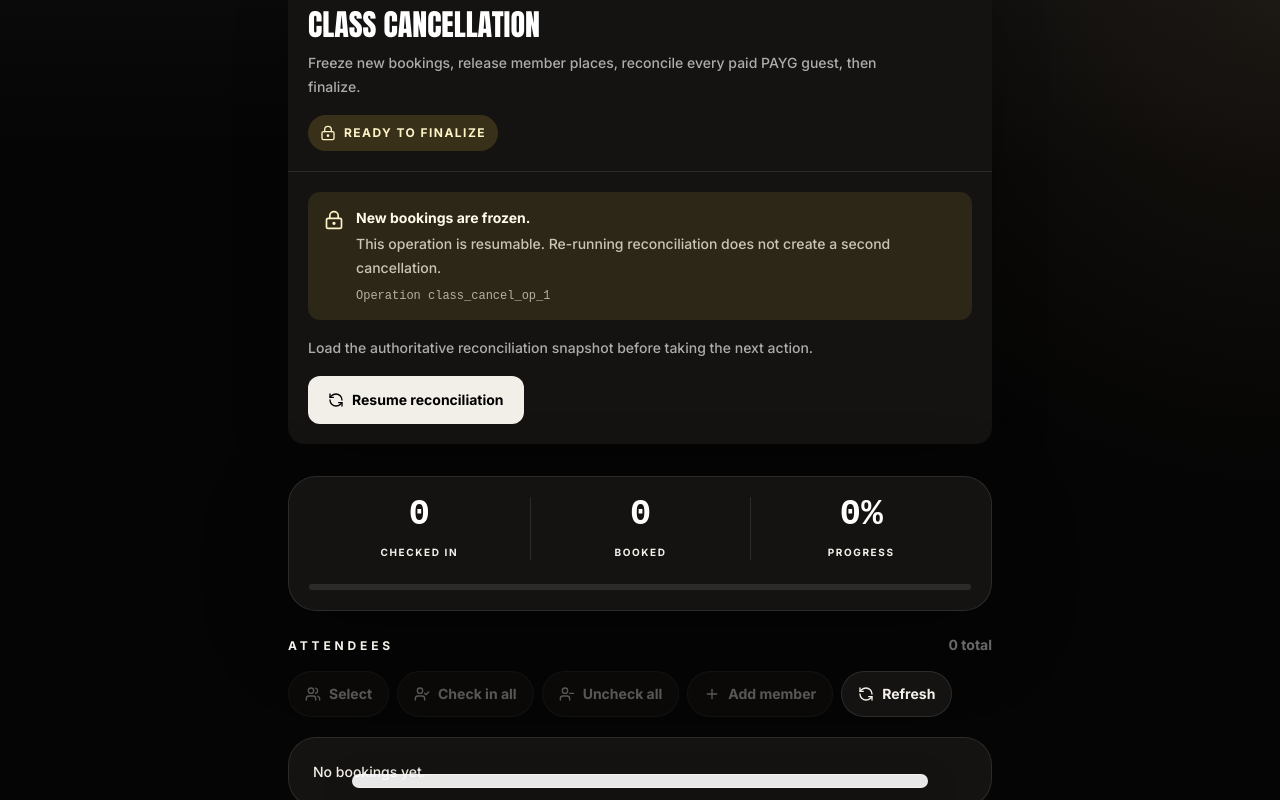
Test case: whole-class cancellation admin workflow › presents finalize refusal blockers and preserves the reconciliation snapshot
This screenshot has width=1280, height=800.
(page scrolled)
Click the button "Resume reconciliation" at (416, 400), box [308, 376, 524, 424]
(page scrolled)
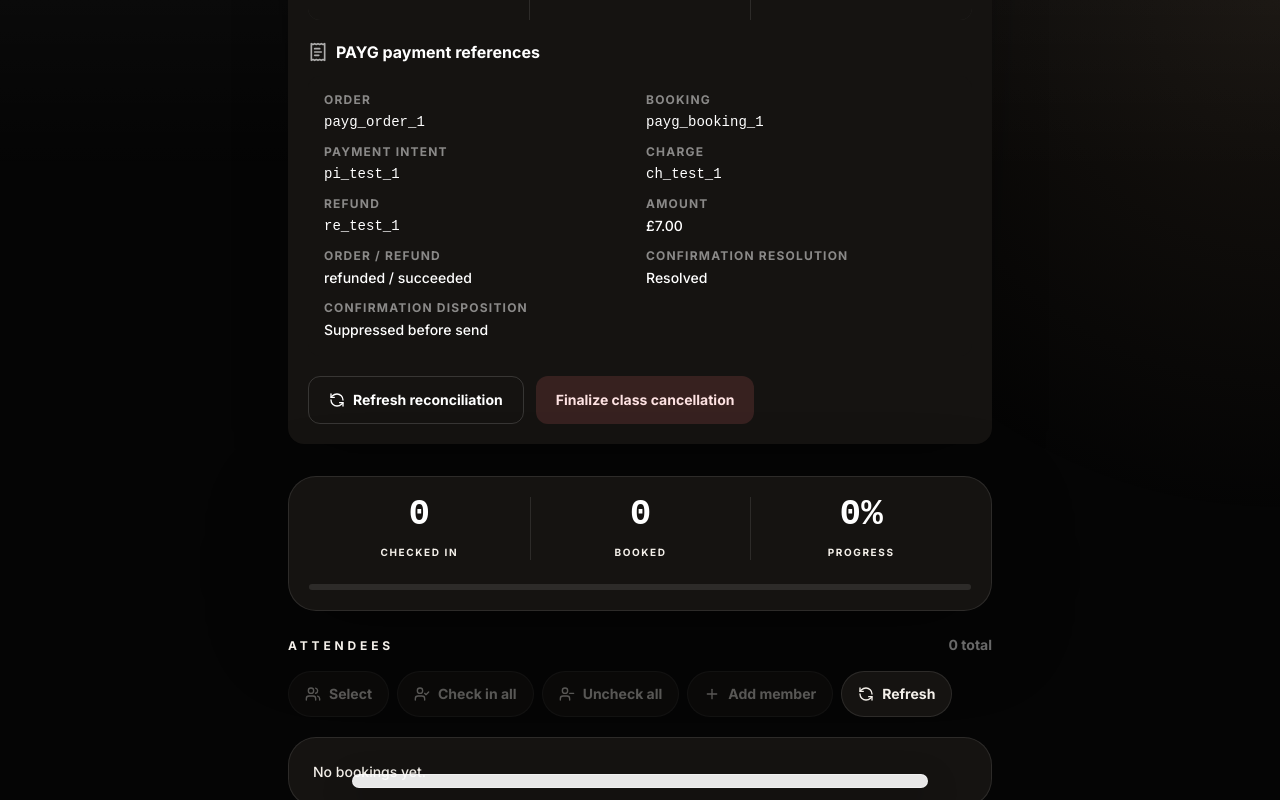
Click the button "Finalize class cancellation" at (645, 400), box [536, 376, 754, 424]
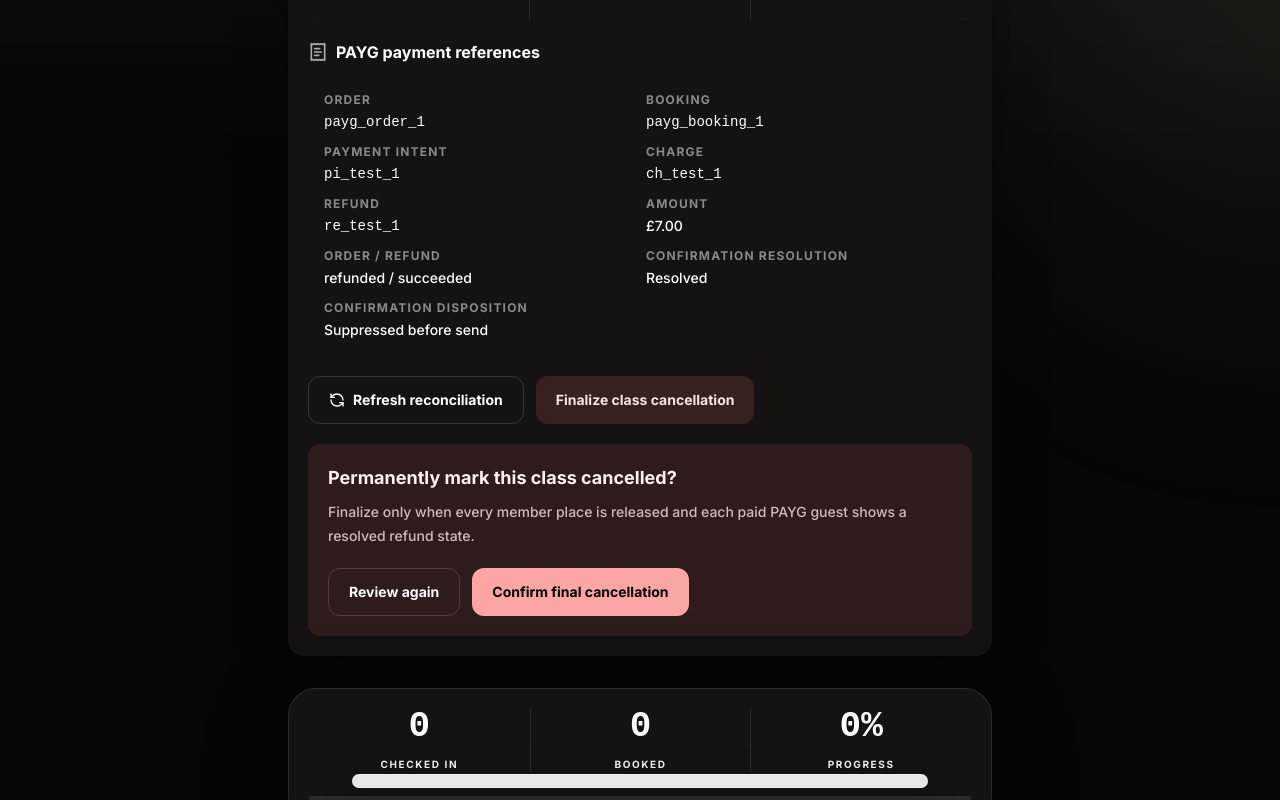
Expected: the heading "Permanently mark this class cancelled?" is shown, [328, 467, 677, 488]
Click the button "Confirm final cancellation" at (580, 592), box [472, 568, 688, 616]
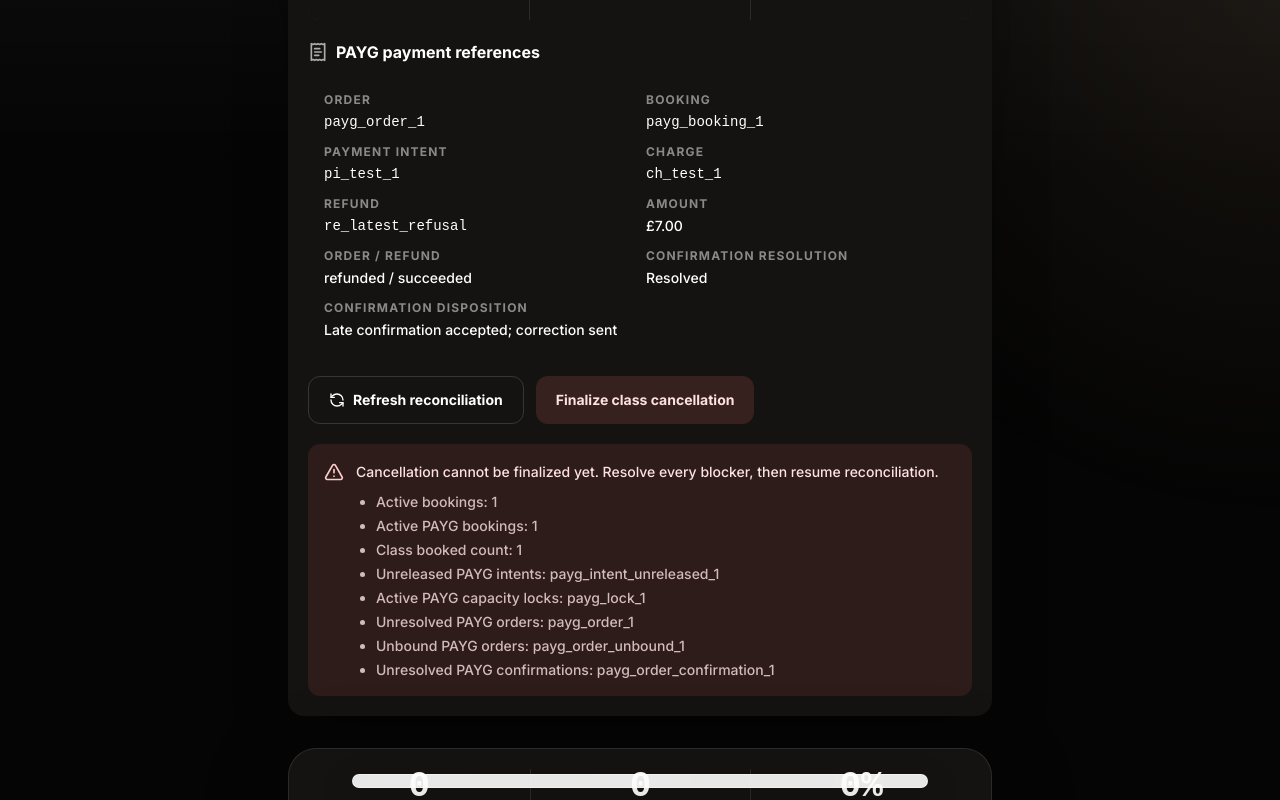
Expected: the message shows "Cancellation cannot be finalized yet", [356, 463, 939, 480]
Expected: the message shows "Active PAYG bookings: 1", [376, 517, 538, 534]
Expected: the message shows "Unreleased PAYG intents: payg_intent_unreleased_1", [376, 565, 719, 582]
